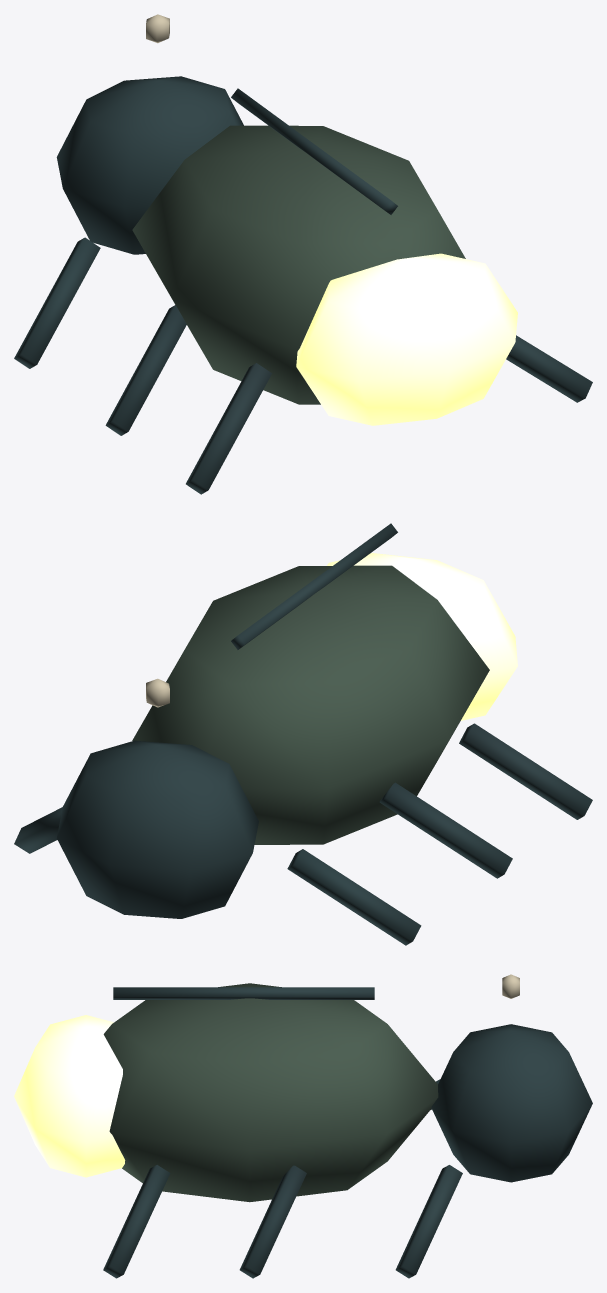
File: insect_firefly_low.glb
3 renders of one model, top to bottom at view 1: azimuth 30°, elevation 25°; view 2: azimuth 150°, elevation 25°; view 3: azimuth 270°, elevation 25°, orthographic. The views are drawn at different scales.
Bounding box in the file's own units: 0.101 × 0.064 × 0.1485.
